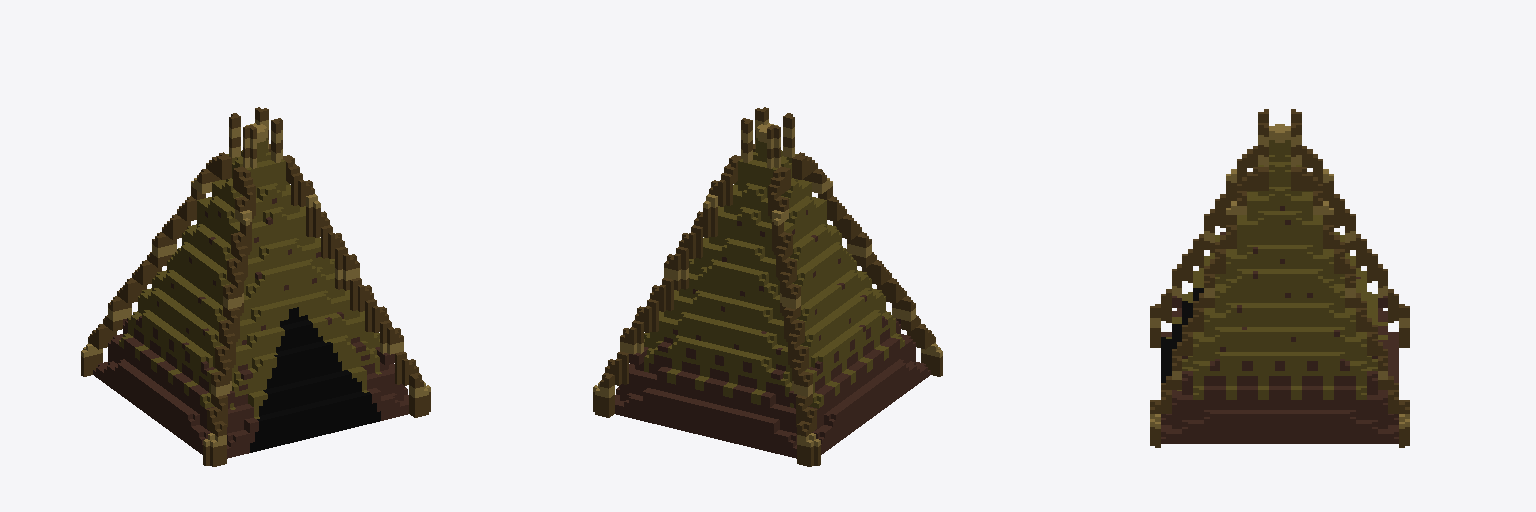
The picture shows the model from 3 angles: view 1: azimuth 30°, elevation 25°; view 2: azimuth 150°, elevation 25°; view 3: azimuth 270°, elevation 25°; orthographic projection.
Parts seen in each view (by area): view 1: mainTent; view 2: mainTent; view 3: mainTent.
Part boxes in pixels (bbox=[...]): mainTent: bbox=[81, 107, 430, 466]; mainTent: bbox=[593, 107, 942, 466]; mainTent: bbox=[1150, 109, 1409, 447].
Size of the model in its own units: 48 by 56 by 48.
1 materials, 1 textured.